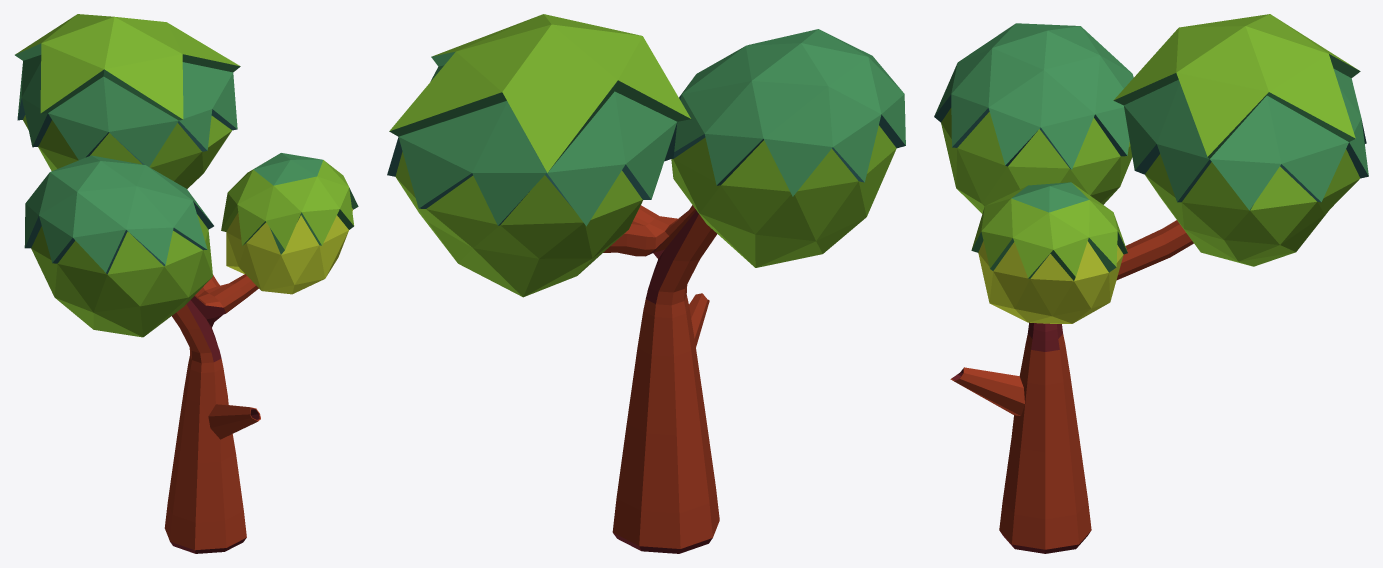
File: tree_3.fbx
3 renders of one model, left to right at view 1: azimuth 30°, elevation 25°; view 2: azimuth 150°, elevation 25°; view 3: azimuth 270°, elevation 25°, orthographic. The views are drawn at different scales.
Visible parts, largest first — view 1: Tree_3; view 2: Tree_3; view 3: Tree_3.
Part boxes in pixels (left/top/right/bottom): Tree_3: left=15, top=14, right=358, bottom=553; Tree_3: left=387, top=14, right=905, bottom=553; Tree_3: left=934, top=14, right=1368, bottom=553.
Size of the model in its own units: 2499 by 3479 by 2688.
